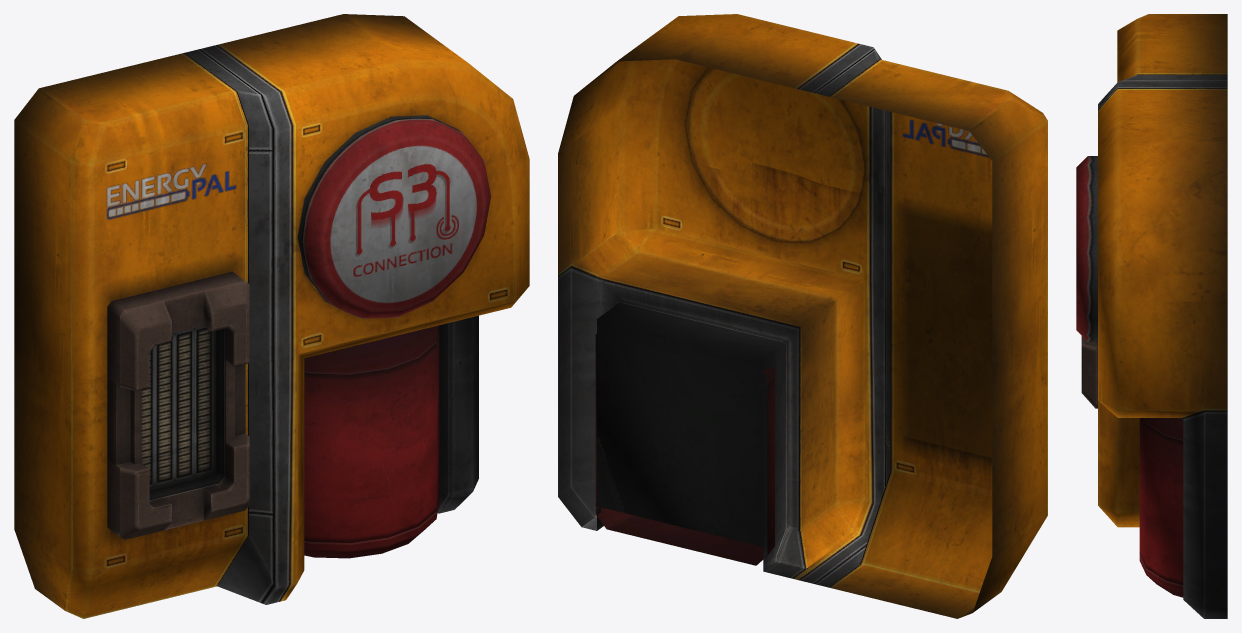
File: powerpack_insert.dae
3 renders of one model, left to right at view 1: azimuth 30°, elevation 25°; view 2: azimuth 150°, elevation 25°; view 3: azimuth 270°, elevation 25°, orthographic. The views are drawn at different scales.
Parts seen in each view (by area): view 1: charger; view 2: charger; view 3: charger.
Boxes of the visible parts, left/top/right/bottom form: charger: left=14, top=14, right=529, bottom=618; charger: left=558, top=14, right=1047, bottom=618; charger: left=1076, top=14, right=1227, bottom=618.
Size of the model in its own units: 0.5176 by 0.559 by 0.1759.
